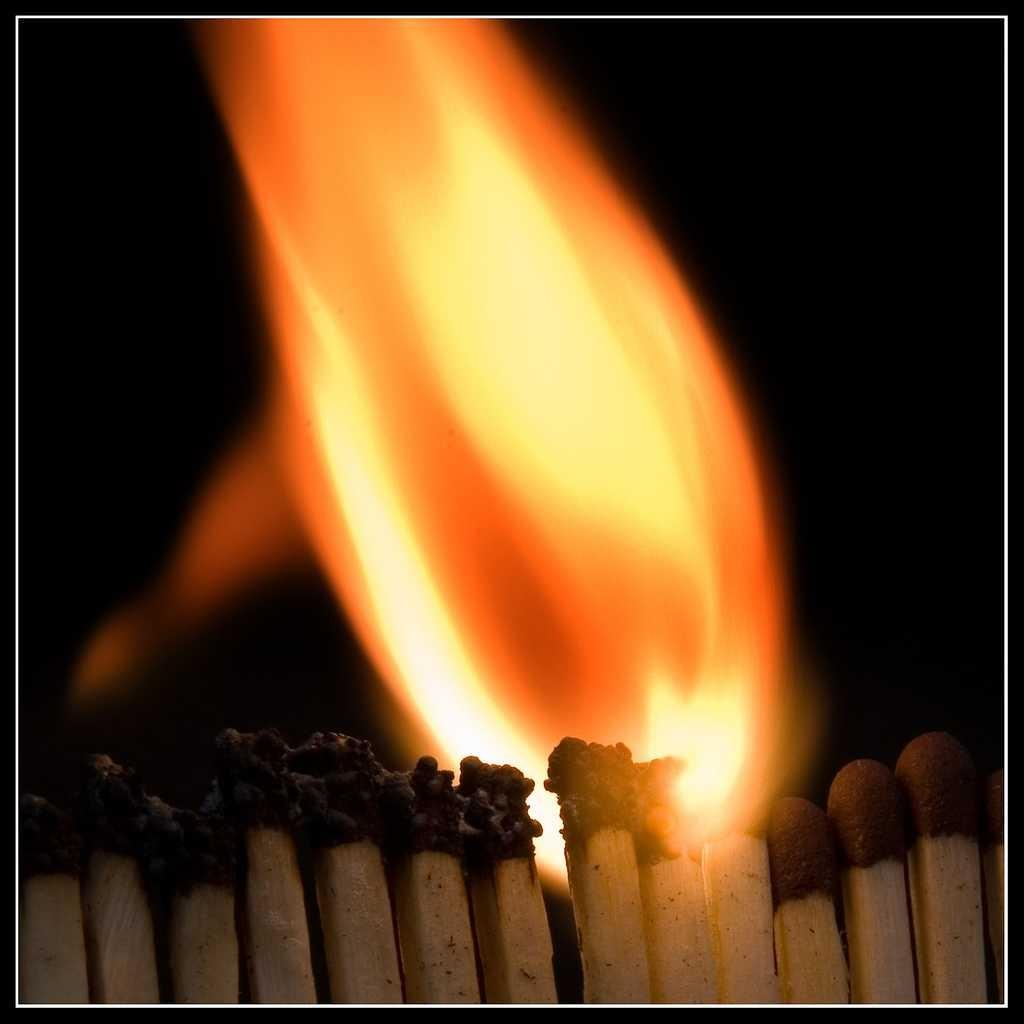fire: (458, 228, 628, 470), (658, 698, 760, 822), (355, 510, 435, 650)
